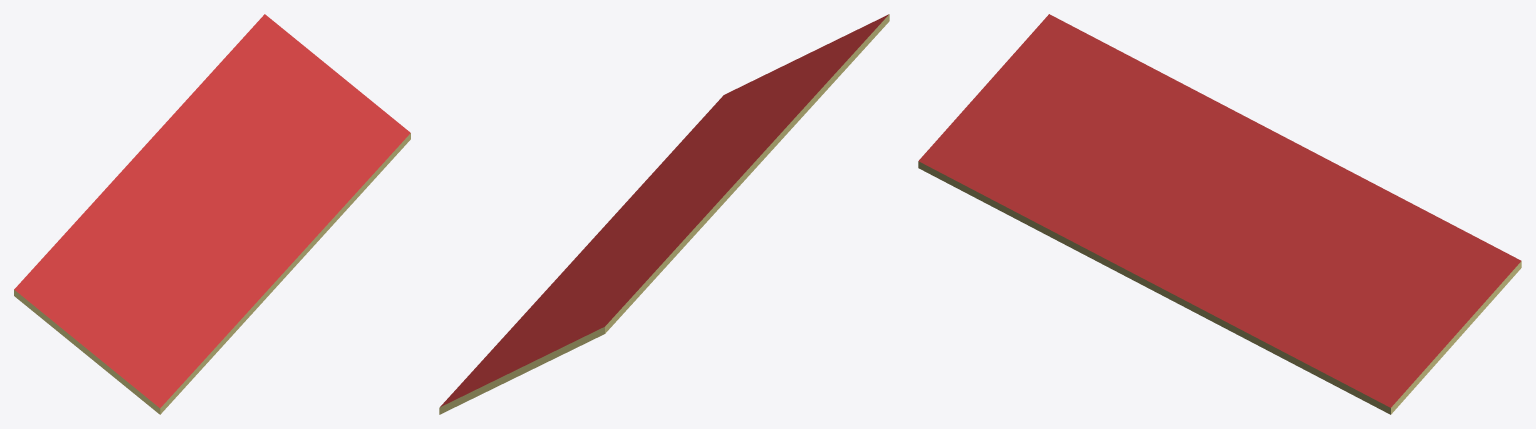
3 views of the same model, side by side, from view 1: azimuth 30°, elevation 25°; view 2: azimuth 210°, elevation 25°; view 3: azimuth 270°, elevation 25° (orthographic). The views are drawn at different scales.
Size of the model in its own units: 8.92 by 7.8 by 1.56.
